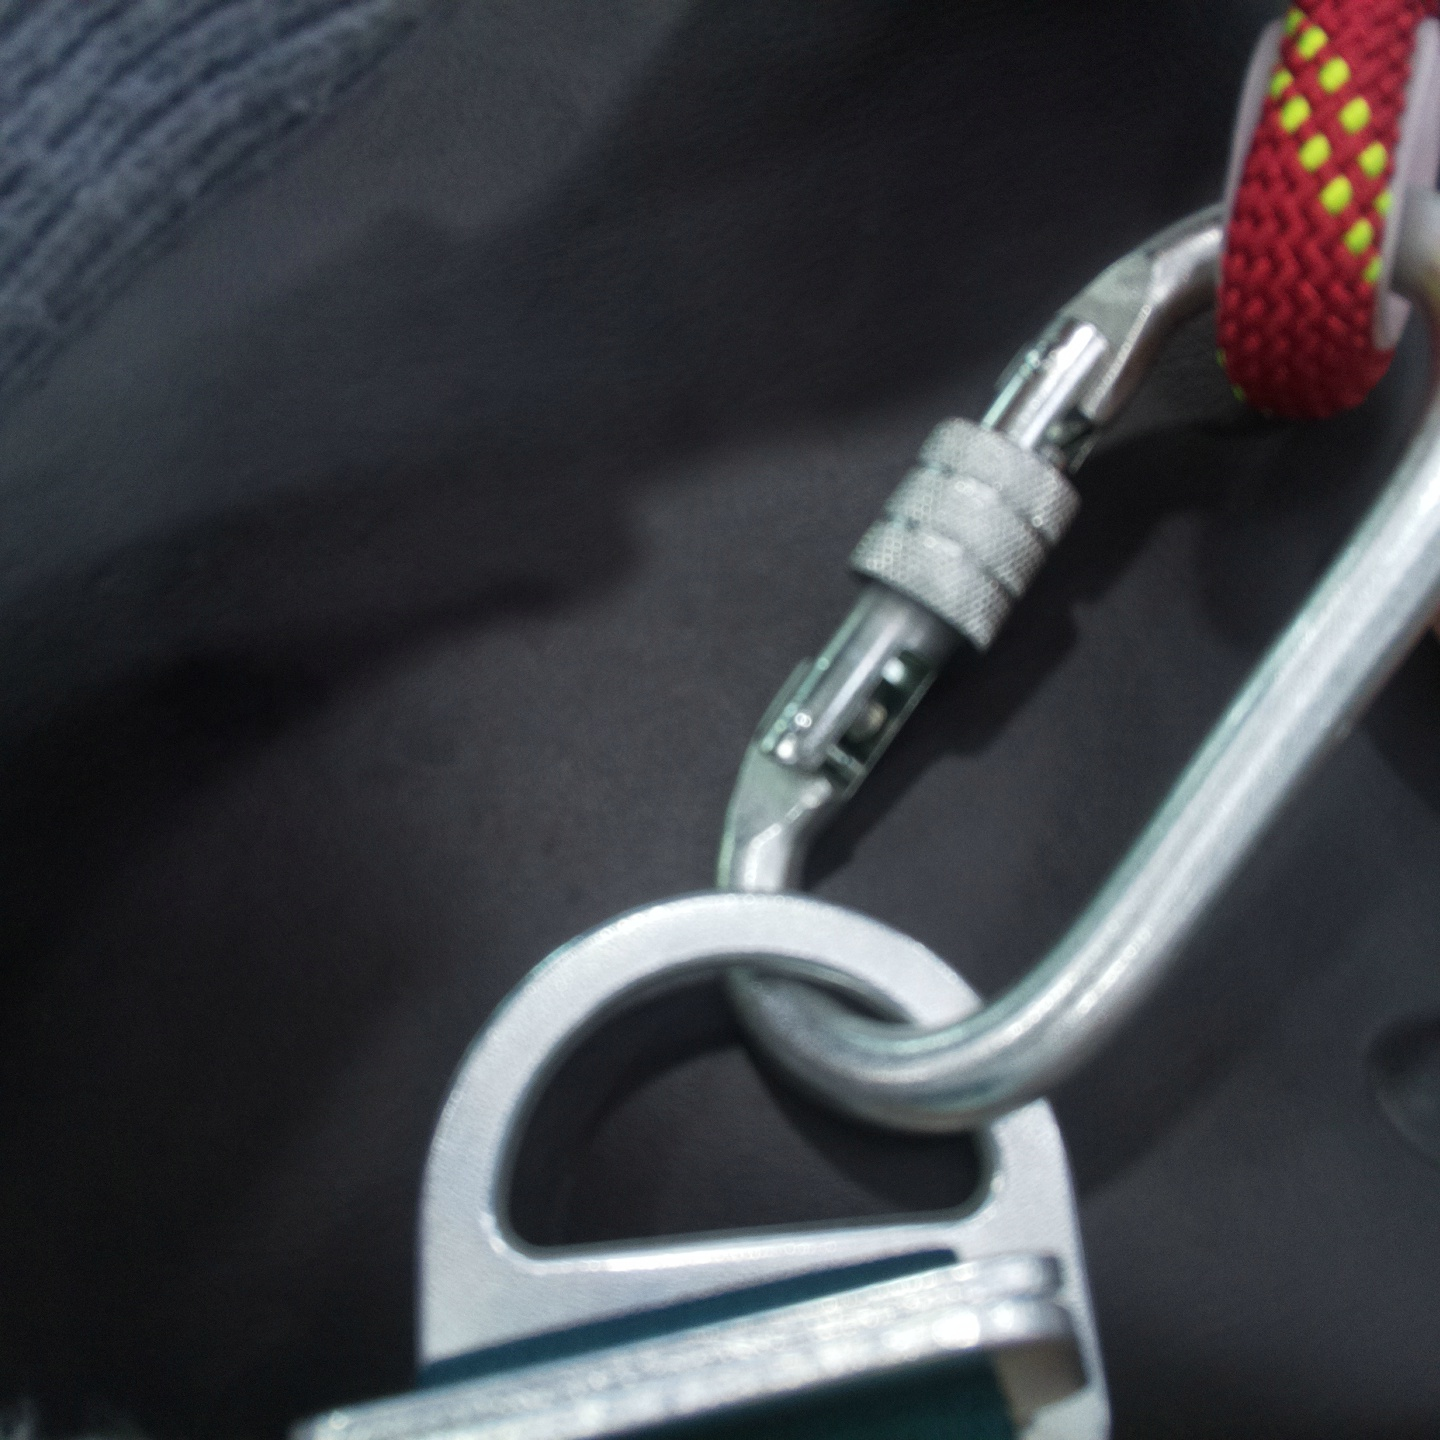SUCCESS: (388, 493, 1319, 1378)
